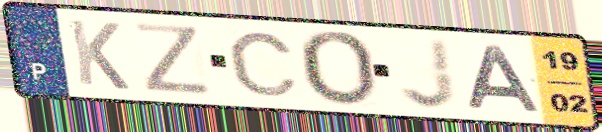A: (464, 44, 546, 115)
C: (224, 30, 303, 99)
J: (396, 36, 460, 111)
K: (65, 16, 133, 93)
O: (294, 28, 379, 109)
Z: (132, 20, 217, 97)
